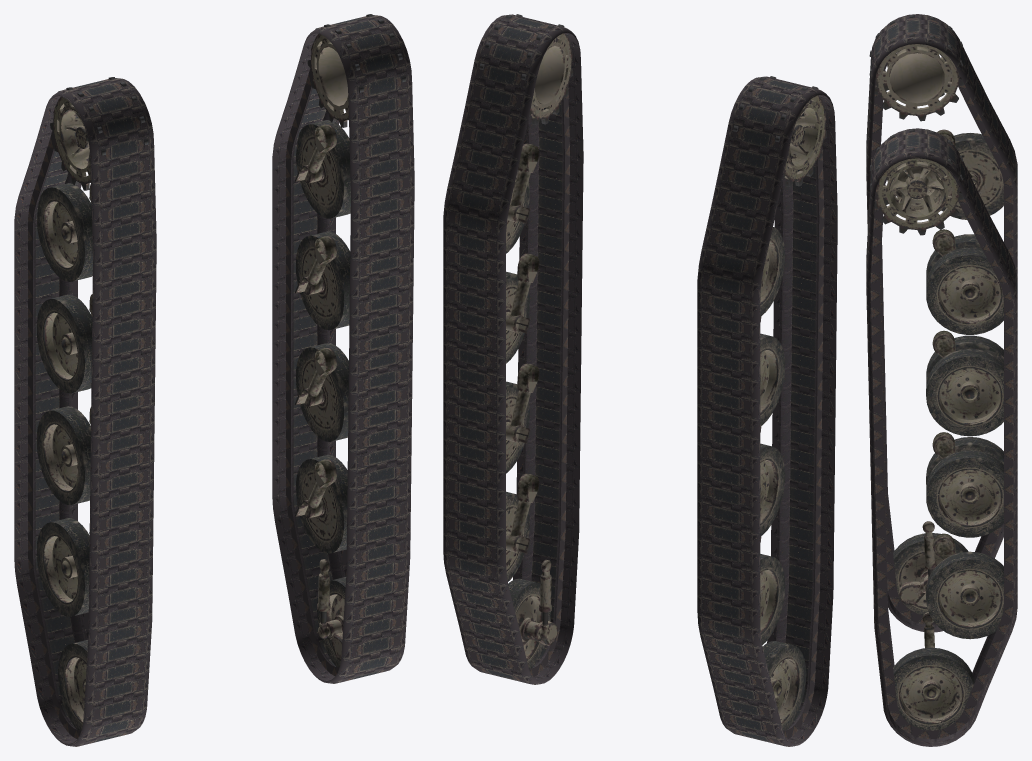
Rendered from Chassis.glb.
3 renders of one model, left to right at view 1: azimuth 30°, elevation 25°; view 2: azimuth 150°, elevation 25°; view 3: azimuth 270°, elevation 25°, orthographic. The views are drawn at different scales.
Parts seen in each view (by area): view 1: set_1_group_0, set_0_group_0, set_2_group_0, set_3_group_0; view 2: set_0_group_0, set_1_group_0, set_3_group_0, set_2_group_0; view 3: set_3_group_0, set_1_group_0, set_2_group_0, set_0_group_0.
Part boxes in pixels (x1,y1,x2,y2): set_1_group_0: (272, 15, 414, 683); set_0_group_0: (14, 78, 156, 746); set_2_group_0: (37, 77, 148, 730); set_3_group_0: (295, 14, 405, 667); set_0_group_0: (697, 76, 837, 746); set_1_group_0: (443, 14, 583, 684); set_3_group_0: (479, 14, 572, 668); set_2_group_0: (733, 76, 826, 730); set_3_group_0: (869, 129, 1003, 730); set_1_group_0: (866, 128, 1017, 746); set_2_group_0: (869, 14, 1003, 615); set_0_group_0: (866, 14, 1017, 632).
Size of the model in its own units: 2.05 by 4 by 0.9224.
Materials: 4 (4 with a texture image).
